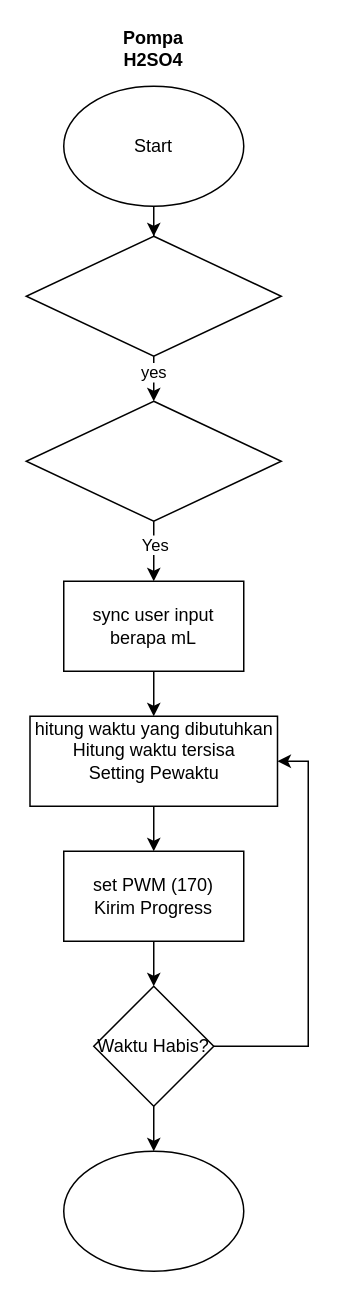
Some shapes in this 347 by 1298 pixel diagram are drawn without their labels. Here are the shapes that lost their labels. From the top down, the centre of each, then its label:
At point (153, 295): "State insialisasi_eksekusi?".
At point (153, 460): "setting pH?".
At point (153, 1210): "flag pH selesai disetting!".
